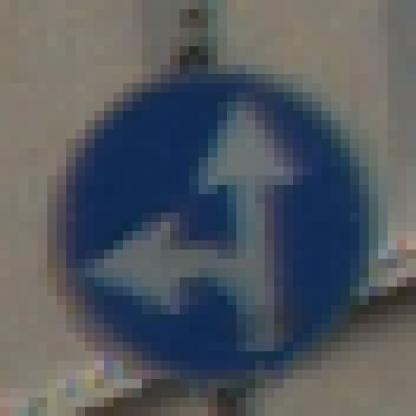Straight or Left: (58, 57, 370, 362)
